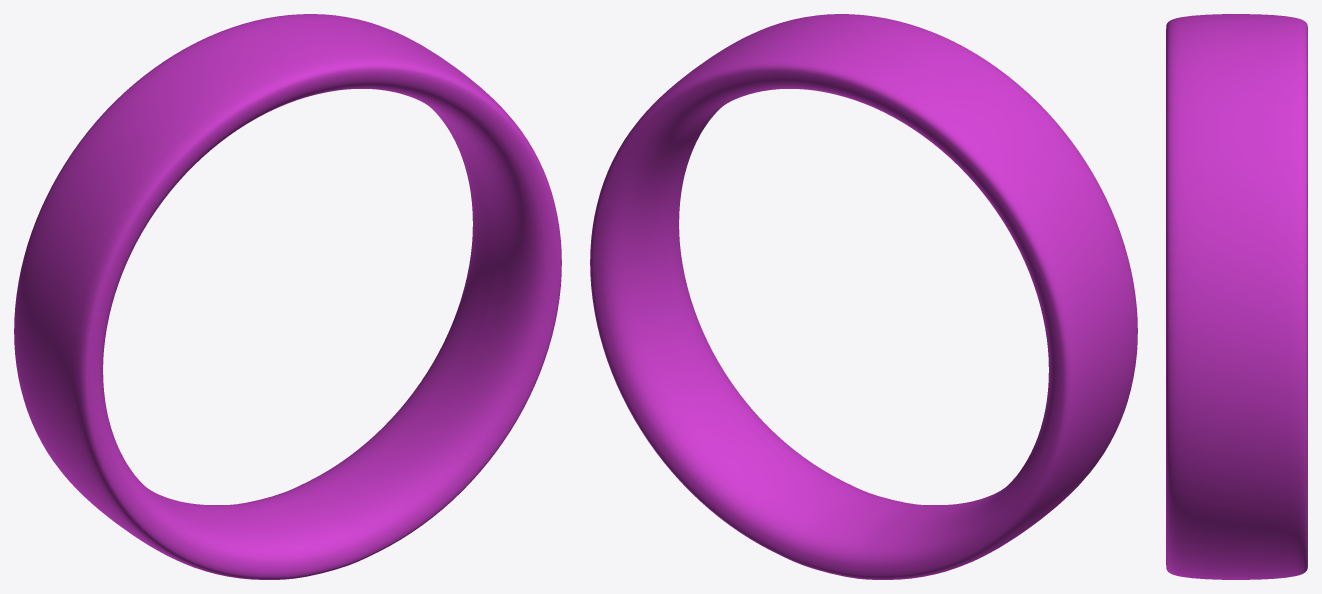
File: plain-ring.obj
3 renders of one model, left to right at view 1: azimuth 30°, elevation 25°; view 2: azimuth 150°, elevation 25°; view 3: azimuth 270°, elevation 25°, orthographic.
Visible parts, largest first — view 1: 16046_vn_obj_1; view 2: 16046_vn_obj_1; view 3: 16046_vn_obj_1.
Boxes of the visible parts, box(x1,y1,x2,y2) form: 16046_vn_obj_1: box(14, 14, 561, 579); 16046_vn_obj_1: box(590, 14, 1137, 579); 16046_vn_obj_1: box(1166, 14, 1307, 579).
Size of the model in its own units: 2 by 2 by 0.5005.
